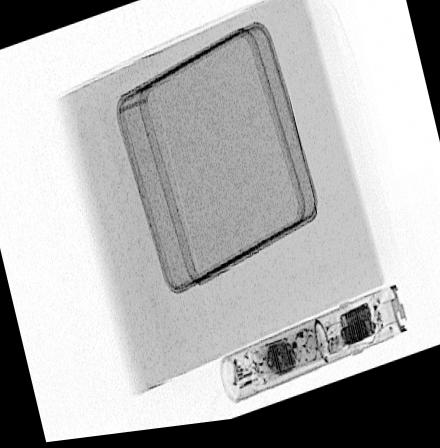Baton: (218, 292, 409, 414)
